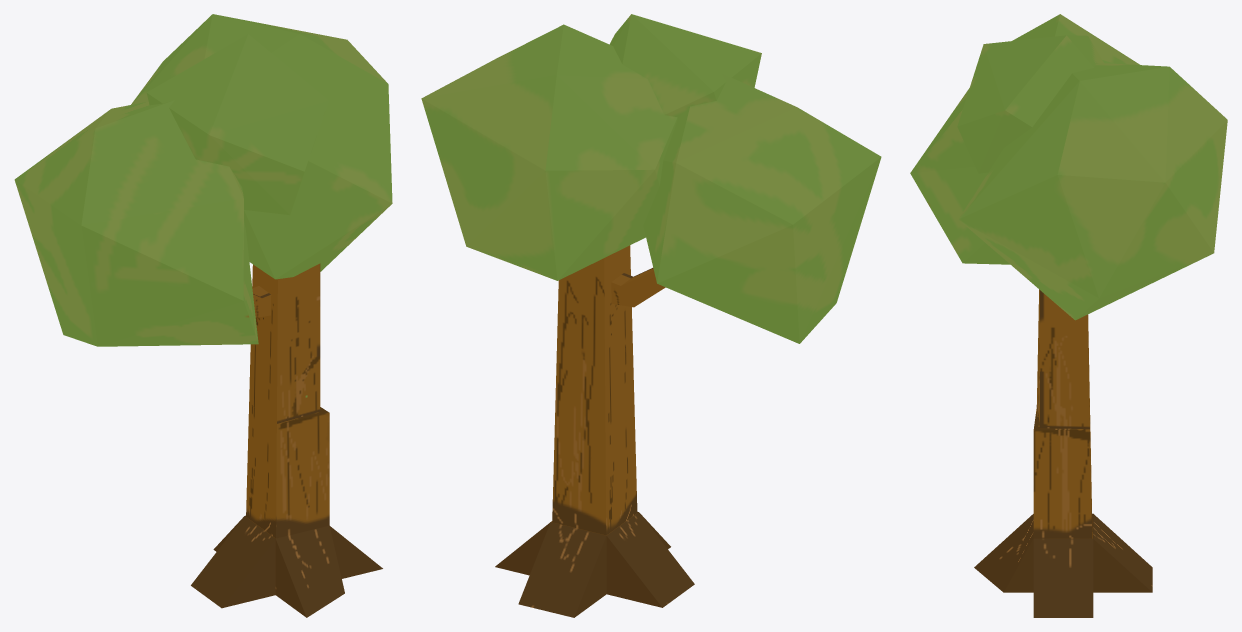
Rendered from tree_chesburg_1.glb.
3 renders of one model, left to right at view 1: azimuth 30°, elevation 25°; view 2: azimuth 150°, elevation 25°; view 3: azimuth 270°, elevation 25°, orthographic. The views are drawn at different scales.
Visible parts, largest first — view 1: leaves; view 2: leaves; view 3: leaves.
Boxes of the visible parts, x1=… form: leaves: x1=14, y1=14, x2=392, y2=617; leaves: x1=421, y1=14, x2=881, y2=617; leaves: x1=910, y1=14, x2=1227, y2=617.
Size of the model in its own units: 6.68 by 9.76 by 5.33.
